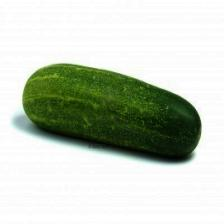cucumber: (22, 62, 202, 159)
